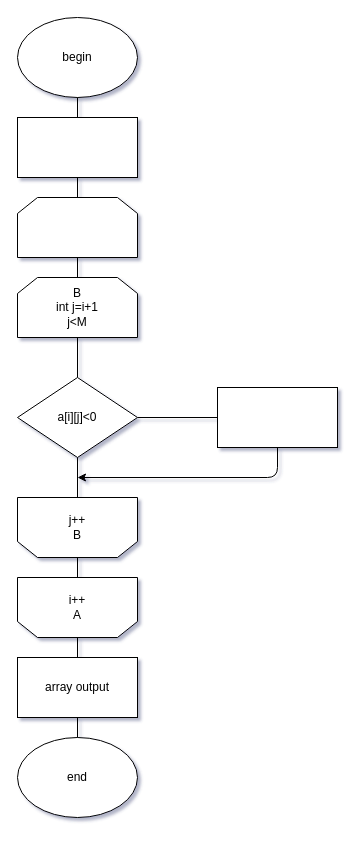
The diagram is 361 pixels wide and 841 high, and some of its shapes have lost their labels. The shapes that lost their labels are listed below. From the top down, each one's centre as x and y in pixels, then its label:
the point at 77,147: array initialization
the point at 77,227: A int i=0 i<N
the point at 277,417: k+=1;
